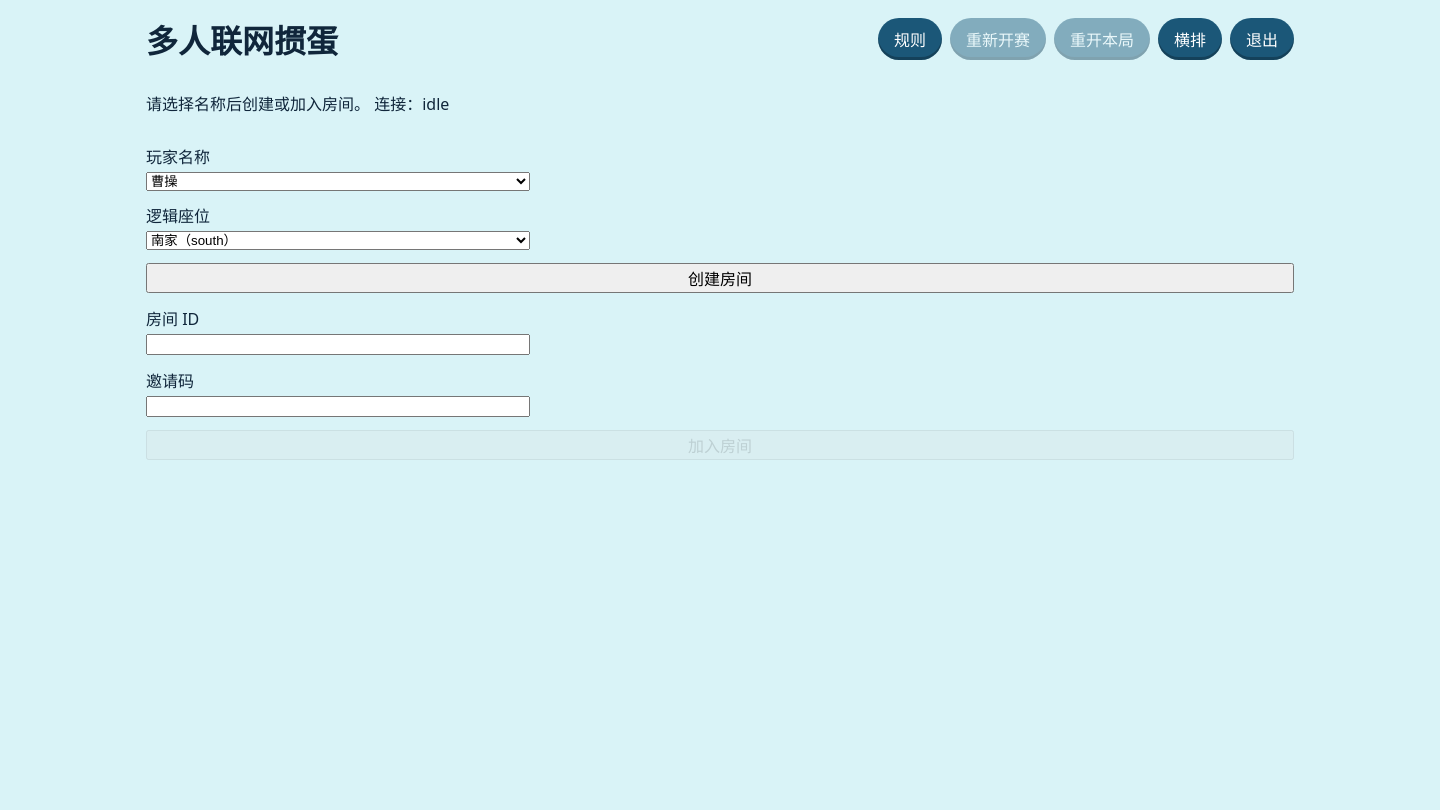
Test: 多人前端 › 只根据个人投影的合法动作提交选中的牌
Click the button "创建房间": (720, 278) [146, 263, 1294, 293]
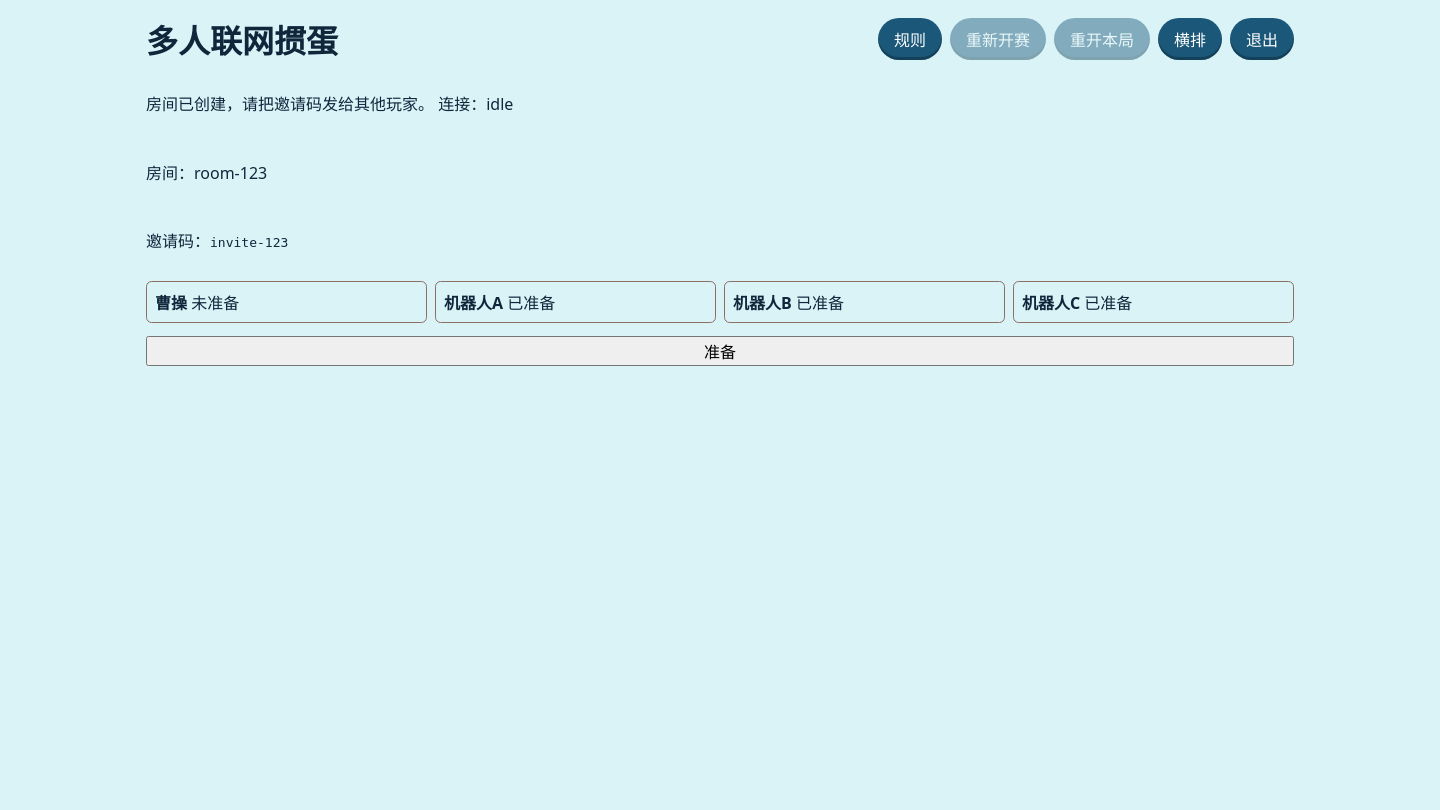
Check: the element named "多人房间" is shown, box [146, 144, 1294, 366]
Click the button "准备": (720, 351) [146, 336, 1294, 366]
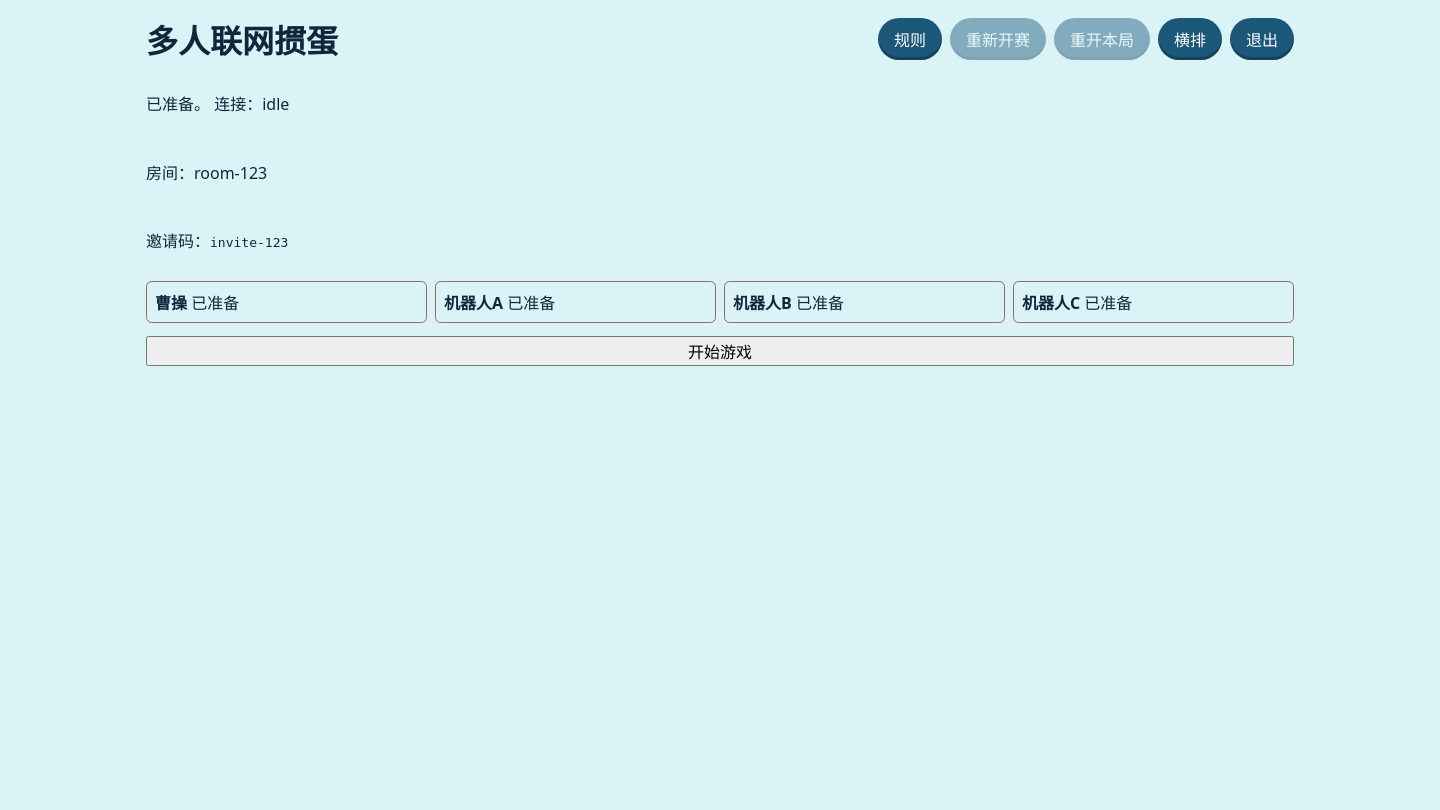
Check: the button "开始游戏" is enabled
Click the button "开始游戏": (720, 351) [146, 336, 1294, 366]
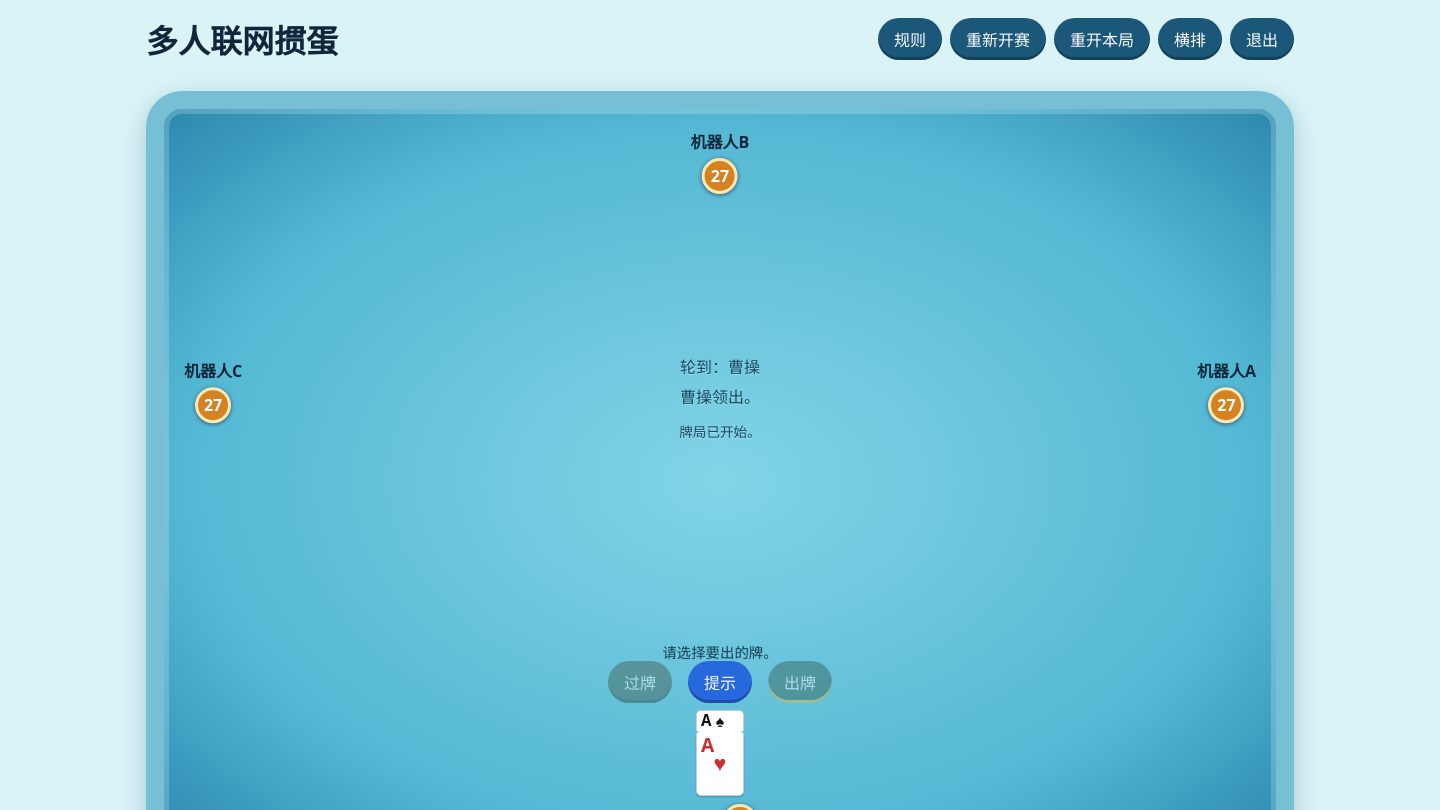
Click the button named "选择♠A": (720, 721) [696, 710, 744, 731]
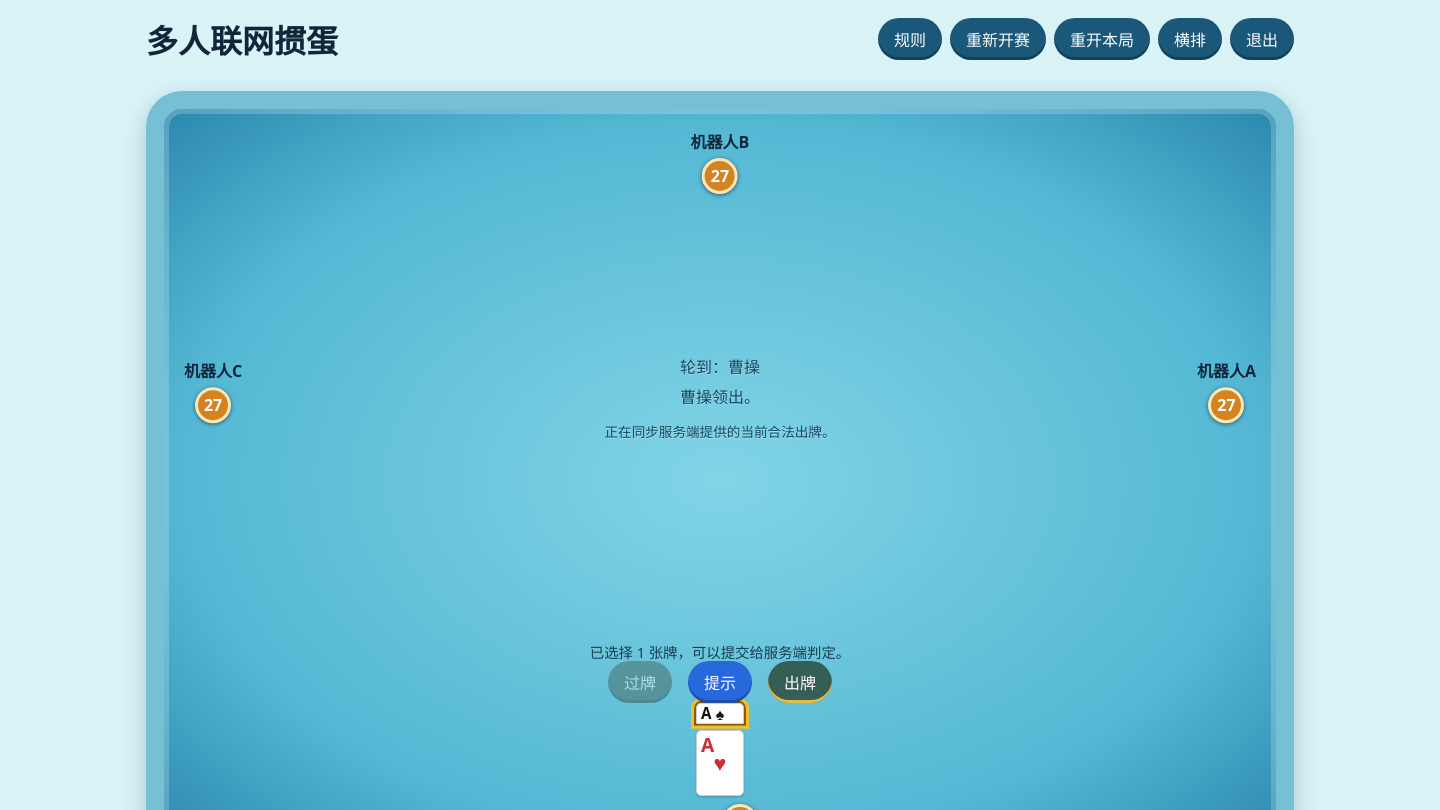
Click the button named "选择♥A": (720, 763) [696, 730, 744, 796]
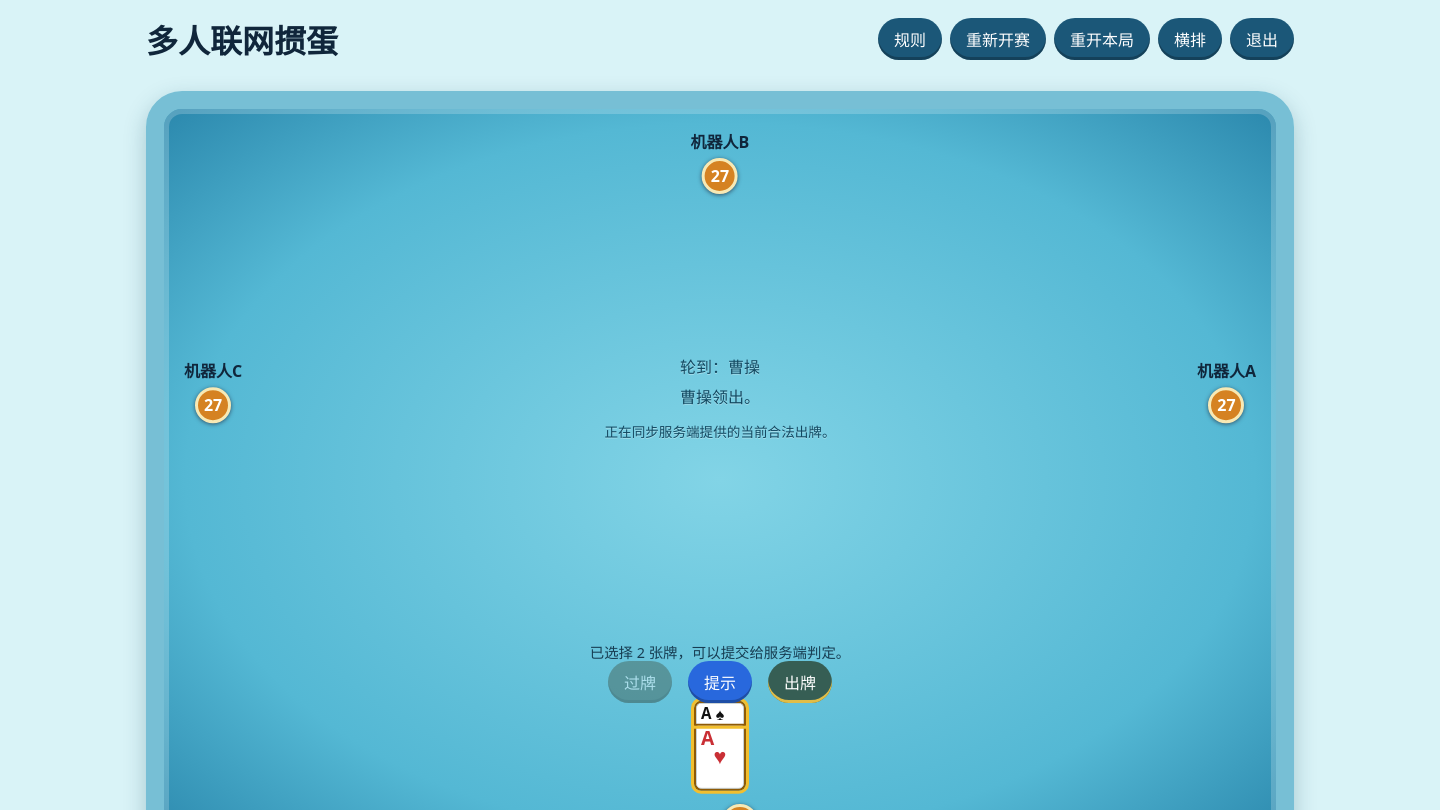
Check: the text "已选择 2 张牌，可以提交给服务端判定。" is shown, box [590, 643, 850, 662]
Click the button "出牌": (800, 682) [768, 662, 832, 703]
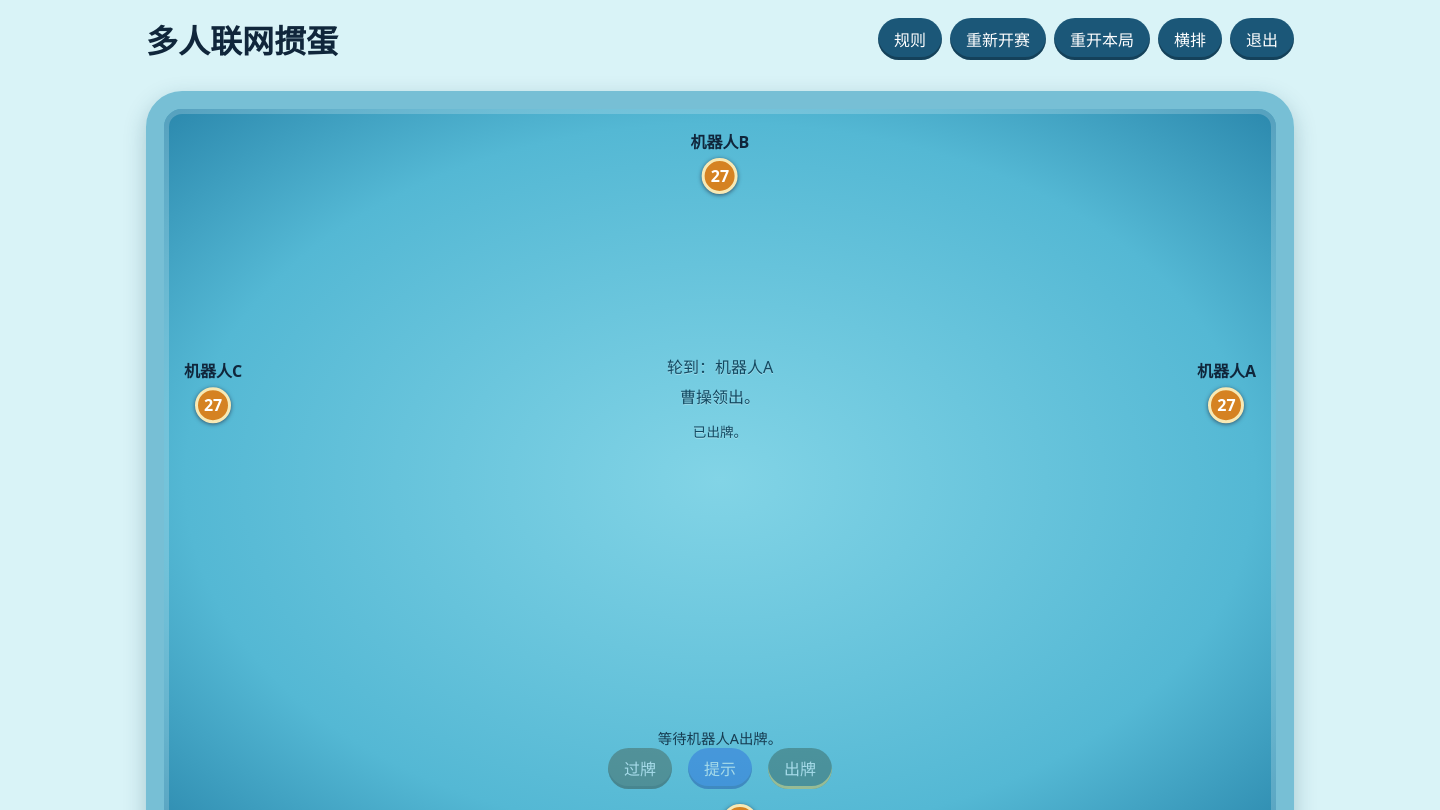
Check: no elements with class "card-face" are shown
Check: the text "轮到：机器人A" is shown, box [667, 357, 773, 379]
